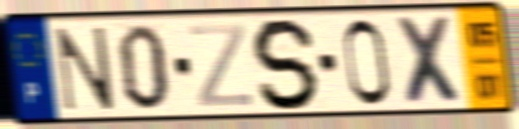0: (115, 21, 172, 113), (340, 15, 394, 109)
N: (53, 24, 117, 114)
S: (250, 15, 323, 113)
X: (392, 14, 470, 107)
Z: (188, 20, 256, 110)
